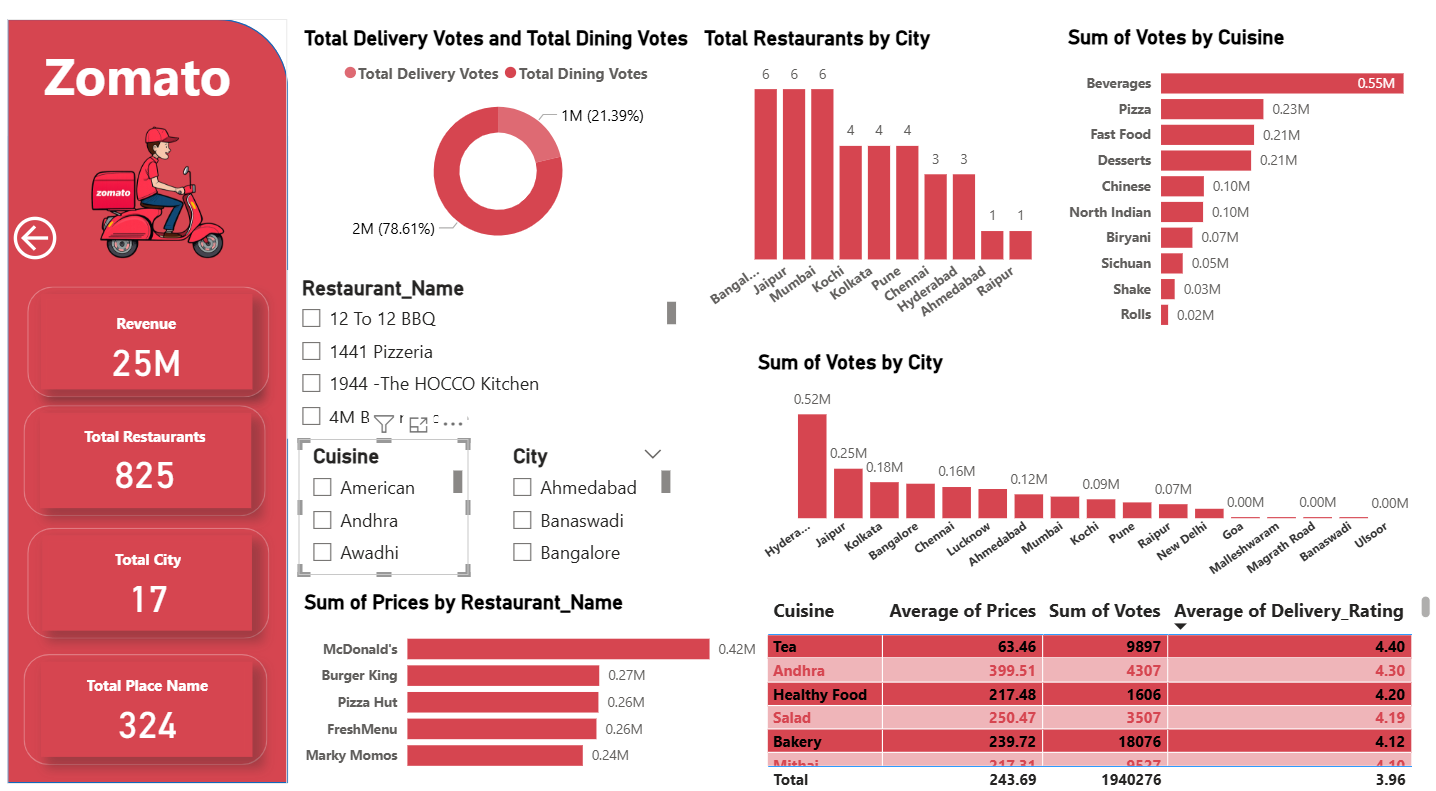

What the dashboard file says about the page in this screenshot:
{"tool":"powerbi","page":{"name":"Page 2","canvas":[1280,720],"ordinal":1},"visuals":[{"type":"shape","box":[9.7,18.1,249.7,679.2],"z":0},{"type":"shape","box":[24.7,360.6,215.3,98.7],"z":1000},{"type":"cardVisual","fields":{"Data":["zomato_cleaned.Total Restaurants"]},"box":[38.4,367.4,187.8,85],"z":2000},{"type":"shape","box":[27.4,470.3,215.3,98.7],"z":3000},{"type":"shape","box":[24.7,581.8,216.8,98.8],"z":4000},{"type":"cardVisual","fields":{"Data":["zomato_cleaned.Total City"]},"box":[41.1,477.1,186.5,85],"z":5000},{"type":"cardVisual","fields":{"Data":["zomato_cleaned.Total Place Name"]},"box":[39.8,588.7,188,85],"z":6000},{"type":"barChart","fields":{"Category":["zomato_cleaned.Restaurant_Name"],"Y":["Sum(zomato_cleaned.Prices)"]},"box":[268.7,525.1,412.7,171.4],"z":7000},{"type":"barChart","fields":{"Category":["zomato_cleaned.Cuisine"],"Y":["Sum(zomato_cleaned.Votes)"]},"box":[947.4,23.3,333.2,281.1],"z":8000},{"type":"donutChart","fields":{"Y":["zomato_cleaned.Total Delivery Votes","zomato_cleaned.Total Dining Votes"]},"box":[268.7,24.7,355.1,207],"z":9000},{"type":"clusteredColumnChart","fields":{"Category":["zomato_cleaned.City"],"Y":["Sum(zomato_cleaned.Votes)"]},"box":[671.8,312.6,597.8,212.5],"z":10000},{"type":"clusteredColumnChart","fields":{"Y":["zomato_cleaned.Total Restaurants"],"Category":["zomato_cleaned.City"]},"box":[624.9,24.5,311.8,281.3],"z":11000},{"type":"tableEx","fields":{"Values":["zomato_cleaned.Cuisine","Avg(zomato_cleaned.Prices)","Sum(zomato_cleaned.Votes)","Avg(zomato_cleaned.Delivery_Rating)"]},"box":[680,525.1,600.5,182.3],"z":12000},{"type":"slicer","fields":{"Values":["zomato_cleaned.Cuisine"]},"box":[268.7,390.7,150.8,122],"z":13000},{"type":"slicer","fields":{"Values":["zomato_cleaned.City"]},"box":[447,390.7,157.7,124.8],"z":14000},{"type":"slicer","fields":{"Values":["zomato_cleaned.Restaurant_Name"]},"box":[259.1,241.3,351,149.4],"z":15000},{"type":"actionButton","box":[9.6,187.8,68.6,49.4],"z":16000},{"type":"image","box":[78.1,104.2,138.5,133],"z":17000},{"type":"cardVisual","fields":{"Data":["zomato_cleaned.Revenue"]},"box":[38.4,261.9,187.8,85],"z":18000},{"type":"shape","box":[27.4,255,215.3,98.7],"z":19000},{"type":"cardVisual","fields":{"Data":["zomato_cleaned.Revenue"]},"box":[39.8,261.9,187.8,85],"z":20000}]}

Visuals, with their boxes in screenshot pixels (x1, y1, x2, y2), scaled from the page's 1280x720 canvas onto the 1436x791 screenshot:
shape: [left=11, top=20, right=291, bottom=766]
shape: [left=28, top=396, right=269, bottom=505]
cardVisual - zomato_cleaned.Total Restaurants: [left=43, top=404, right=254, bottom=497]
shape: [left=31, top=517, right=272, bottom=625]
shape: [left=28, top=639, right=271, bottom=748]
cardVisual - zomato_cleaned.Total City: [left=46, top=524, right=255, bottom=618]
cardVisual - zomato_cleaned.Total Place Name: [left=45, top=647, right=256, bottom=740]
barChart - zomato_cleaned.Restaurant_Name x Sum(zomato_cleaned.Prices): [left=301, top=577, right=764, bottom=765]
barChart - zomato_cleaned.Cuisine x Sum(zomato_cleaned.Votes): [left=1063, top=26, right=1435, bottom=334]
donutChart - zomato_cleaned.Total Delivery Votes x zomato_cleaned.Total Dining Votes: [left=301, top=27, right=700, bottom=255]
clusteredColumnChart - zomato_cleaned.City x Sum(zomato_cleaned.Votes): [left=754, top=343, right=1424, bottom=577]
clusteredColumnChart - zomato_cleaned.Total Restaurants x zomato_cleaned.City: [left=701, top=27, right=1051, bottom=336]
tableEx - zomato_cleaned.Cuisine x Avg(zomato_cleaned.Prices): [left=763, top=577, right=1435, bottom=777]
slicer - zomato_cleaned.Cuisine: [left=301, top=429, right=471, bottom=563]
slicer - zomato_cleaned.City: [left=501, top=429, right=678, bottom=566]
slicer - zomato_cleaned.Restaurant_Name: [left=291, top=265, right=684, bottom=429]
actionButton: [left=11, top=206, right=88, bottom=261]
image: [left=88, top=114, right=243, bottom=261]
cardVisual - zomato_cleaned.Revenue: [left=43, top=288, right=254, bottom=381]
shape: [left=31, top=280, right=272, bottom=389]
cardVisual - zomato_cleaned.Revenue: [left=45, top=288, right=255, bottom=381]
